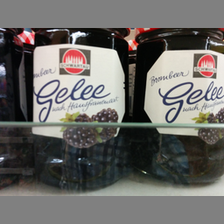jam: (26, 28, 130, 191), (131, 28, 224, 185)
